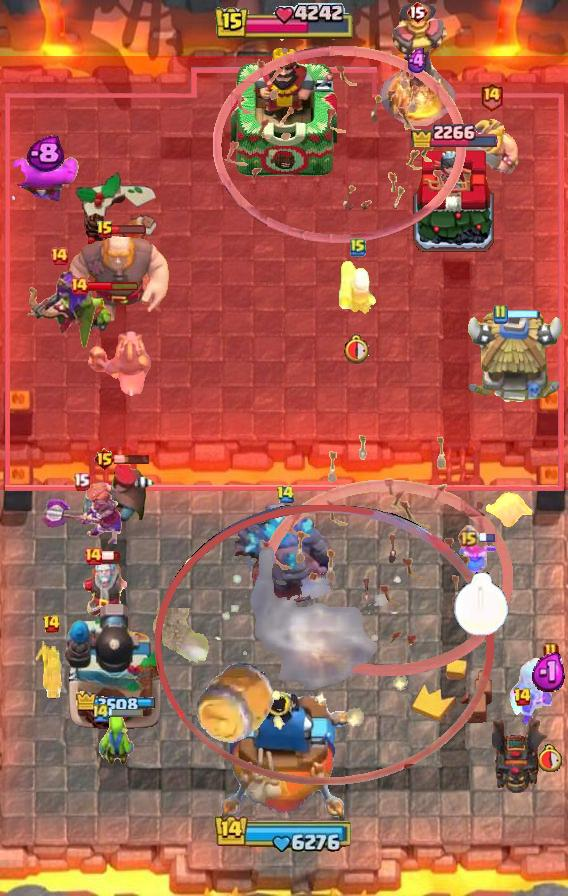archer-evolution: (492, 712, 552, 796)
balloon: (65, 232, 173, 324)
barbarian-hut: (20, 269, 98, 355)
bomber-evolution: (33, 638, 69, 704)
cannoneer-tower: (235, 502, 335, 602)
clock: (213, 3, 355, 43), (214, 813, 354, 853)
dirt: (194, 659, 280, 747)
electro-dragon: (378, 0, 456, 126)
electro-spirit: (532, 651, 568, 693), (26, 135, 64, 173), (405, 48, 430, 74)
elixir: (453, 571, 509, 637), (344, 333, 372, 364), (539, 744, 563, 772)
emote: (87, 280, 140, 292), (113, 453, 150, 465), (111, 224, 147, 235), (108, 707, 144, 718), (506, 308, 541, 319), (101, 550, 121, 562), (477, 531, 496, 543)
fisherman: (148, 608, 211, 669)
freeze: (85, 329, 153, 401)
goblin-giant: (462, 116, 520, 176)
hog-rider: (457, 534, 505, 588)
king-tower: (219, 692, 349, 826), (231, 43, 337, 181)
mirror: (482, 491, 532, 529)
mortar: (64, 561, 146, 633), (508, 655, 568, 729)
phoenix-small: (80, 464, 156, 524)
prince: (463, 311, 565, 407)
queen-tower: (410, 144, 496, 255)
royal-ghost: (155, 505, 494, 785)
selected: (408, 117, 498, 147), (73, 690, 154, 714)
skeleton-barrel: (259, 433, 513, 677), (214, 23, 467, 246)
tesla-evolution: (39, 481, 123, 548)
text: (479, 81, 504, 112), (93, 447, 116, 471), (457, 524, 480, 547), (406, 0, 428, 24), (91, 701, 111, 723), (49, 246, 69, 266), (69, 276, 89, 296), (83, 546, 103, 566), (512, 687, 532, 707), (276, 484, 296, 503), (42, 614, 61, 634), (96, 220, 114, 240), (73, 472, 91, 491), (350, 237, 366, 257), (492, 304, 508, 324), (543, 642, 559, 662)
tombstone: (337, 258, 379, 316)
tornado: (11, 151, 79, 203)
tower-bar: (64, 601, 164, 731)
zap: (97, 709, 135, 767), (74, 291, 112, 331)
